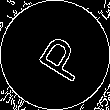P_NW: (24, 26, 86, 84)
